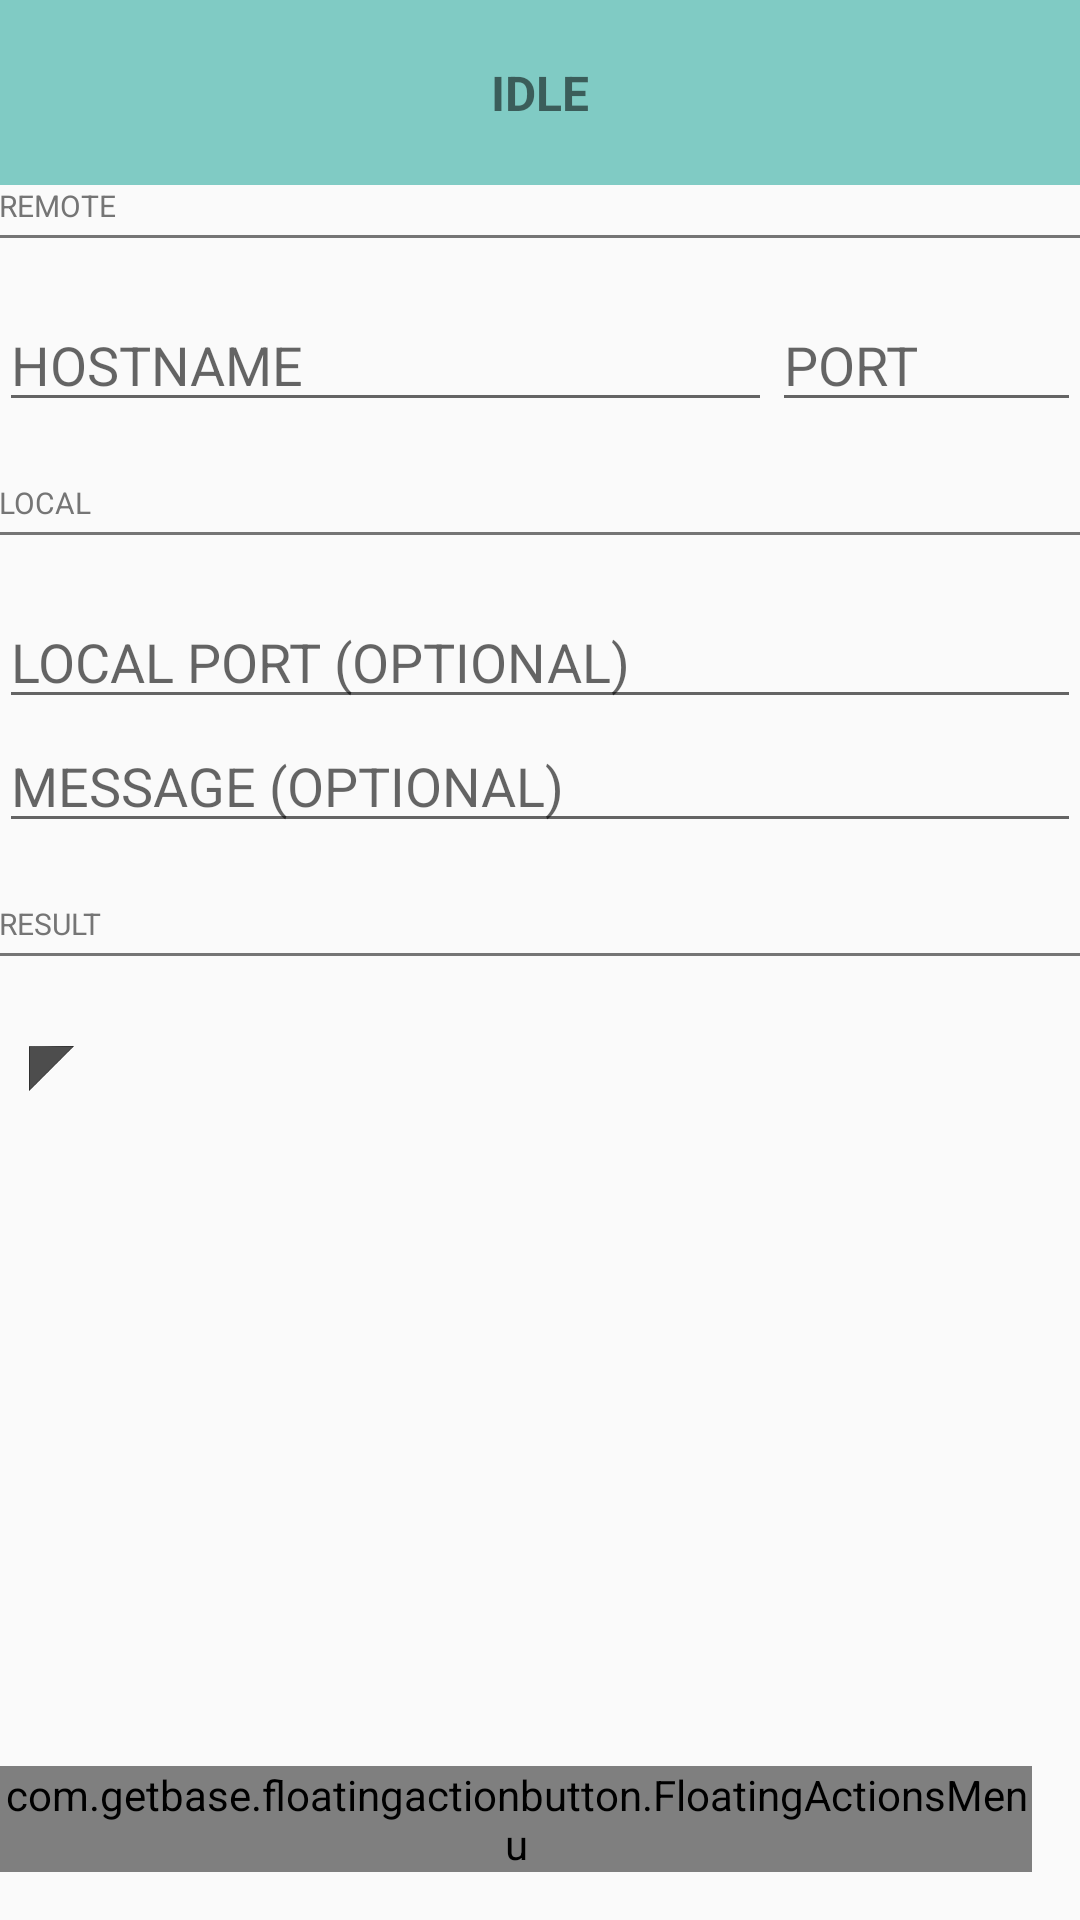

Screen size 1080 x 1920. Icon name, then its center in pixels as point (x, y):
up left tip: point (51, 1068)
